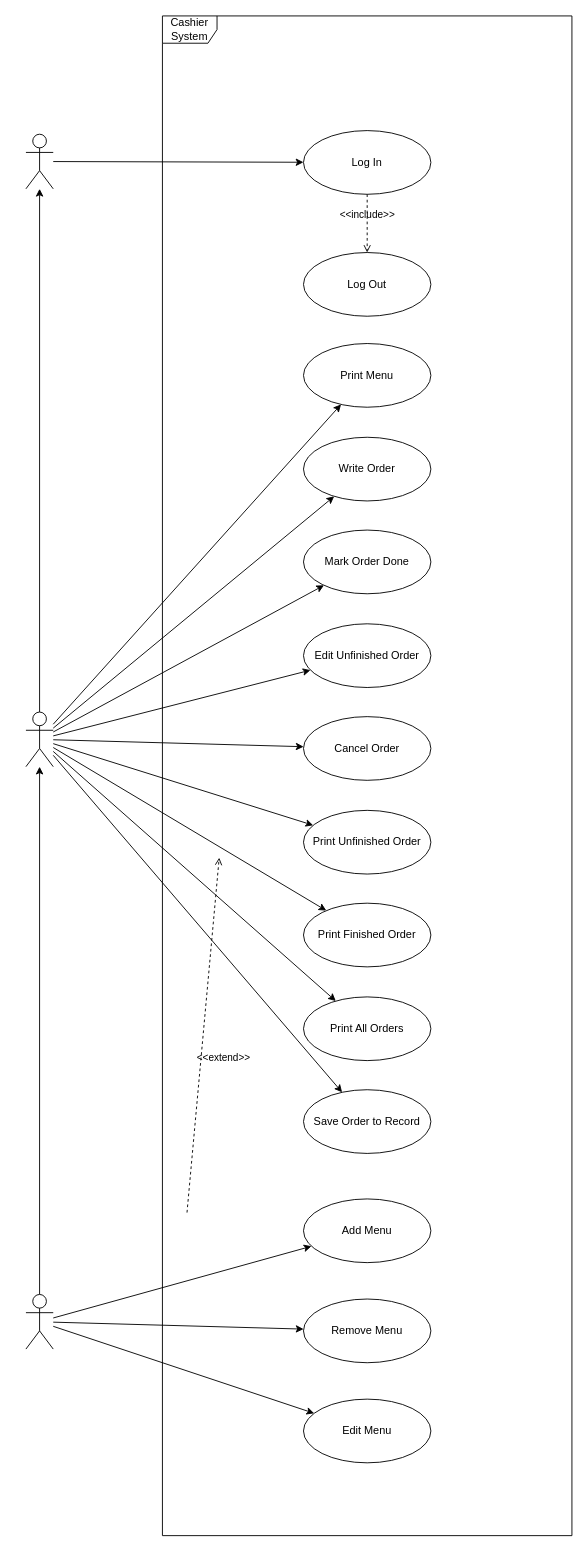
Some shapes in this 588 by 1552 pixel diagram are drawn without their labels. Here are the shapes that lost their labels. From the top down, the box of each, then its label:
(25, 133, 53, 189): Employee
(25, 711, 53, 767): Cashier
(25, 1294, 53, 1349): Manager
